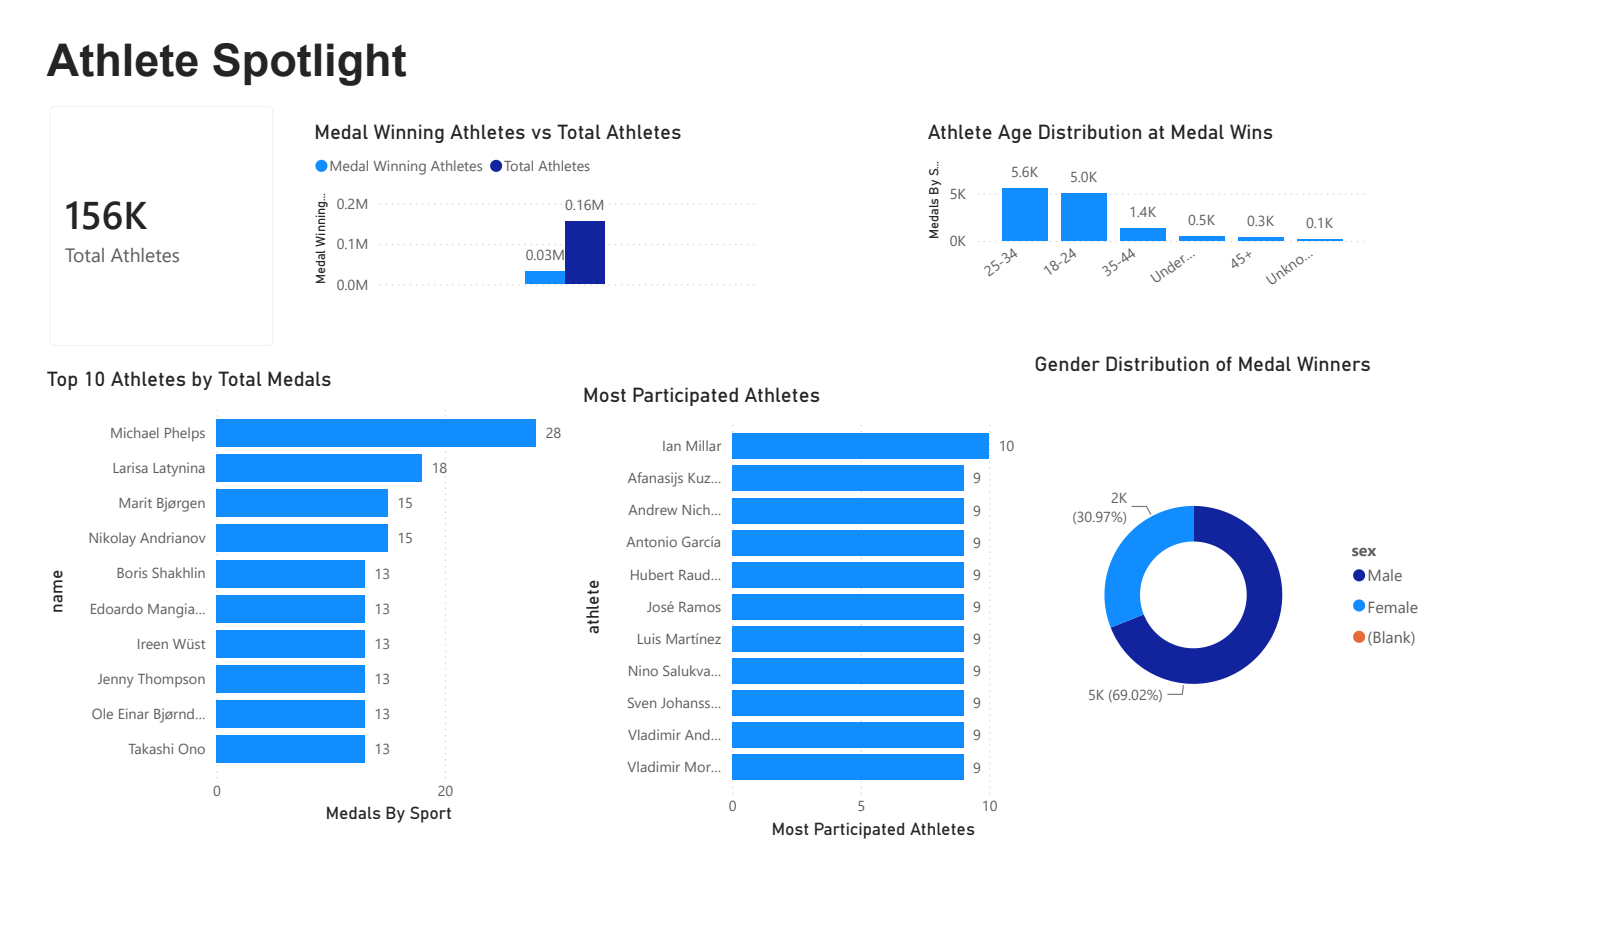

Layout of this report page (visuals, bound fields, positions):
{"tool":"powerbi","page":{"name":"Athlete_Spotlight","canvas":[1280,720],"ordinal":2},"visuals":[{"type":"textbox","box":[9.8,0,351,280],"z":0},{"type":"cardVisual","fields":{"Data":["olympic_athlete_bio.Total Athletes"]},"box":[0,46.7,219.6,233.3],"z":1000},{"type":"clusteredBarChart","title":"Top 10 Athletes by Total Medals","fields":{"Category":["olympic_athlete_bio.name"],"Y":["olympic_athlete_event_result.Medals By Sport"]},"box":[9.6,279.9,444.6,384.2],"z":2000},{"type":"clusteredColumnChart","title":"Medal Winning Athletes vs Total Athletes","fields":{"Y":["olympic_athlete_event_result.Medal Winning Athletes","olympic_athlete_bio.Total Athletes"]},"box":[231.9,75.5,374.6,150.9],"z":3000},{"type":"clusteredBarChart","title":"Most Participated Athletes ","fields":{"Category":["olympic_athlete_event_result.athlete"],"Y":["olympic_athlete_event_result.Most Participated Athletes"]},"box":[454.9,293.5,375.4,384],"z":4000},{"type":"clusteredColumnChart","title":"Athlete Age Distribution at Medal Wins","fields":{"Category":["olympic_athlete_event_result.Age Group"],"Y":["olympic_athlete_event_result.Medals By Sport"]},"box":[740.5,75,375,151],"z":5000},{"type":"donutChart","title":"Gender Distribution of Medal Winners","fields":{"Category":["olympic_athlete_bio.sex"],"Y":["olympic_athlete_event_result.Medals By Sport"]},"box":[830.2,267.6,337.6,384.2],"z":6000}]}

Visuals, with their boxes in screenshot pixels (x1, y1, x2, y2), scaled from the page's 1280x720 canvas onto the 1600x926 screenshot:
textbox: (left=12, top=0, right=451, bottom=360)
cardVisual - olympic_athlete_bio.Total Athletes: (left=0, top=60, right=274, bottom=360)
"Top 10 Athletes by Total Medals" clusteredBarChart: (left=12, top=360, right=568, bottom=854)
"Medal Winning Athletes vs Total Athletes" clusteredColumnChart: (left=290, top=97, right=758, bottom=291)
"Most Participated Athletes " clusteredBarChart: (left=569, top=377, right=1038, bottom=871)
"Athlete Age Distribution at Medal Wins" clusteredColumnChart: (left=926, top=96, right=1394, bottom=291)
"Gender Distribution of Medal Winners" donutChart: (left=1038, top=344, right=1460, bottom=838)
